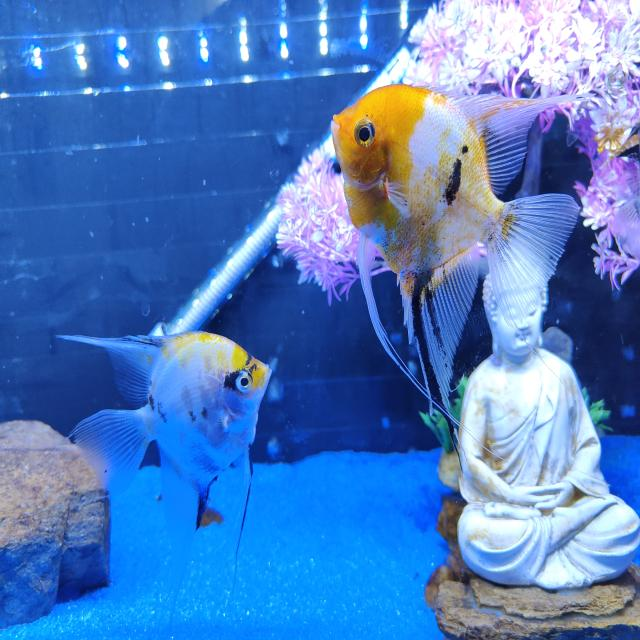Fish: (332, 85, 580, 406), (59, 332, 271, 627)
